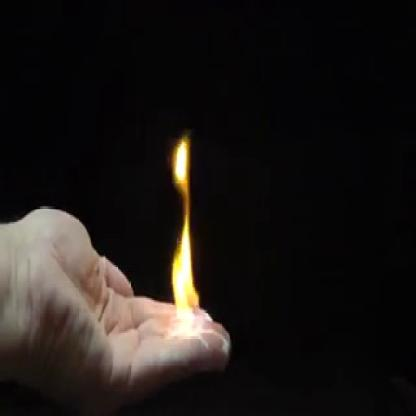fire: (170, 132, 204, 348)
